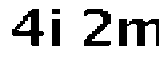2: (81, 5, 114, 50)
4: (9, 7, 46, 52)
i: (49, 6, 69, 51)
m: (118, 16, 160, 51)
